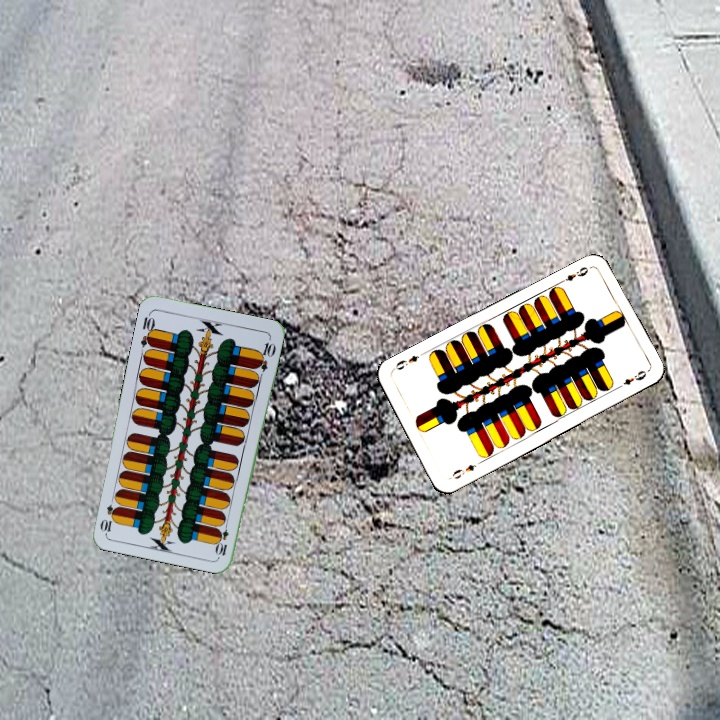E10: (136, 309, 158, 349), (213, 517, 231, 558)
E9: (556, 262, 594, 286), (448, 460, 479, 482)
